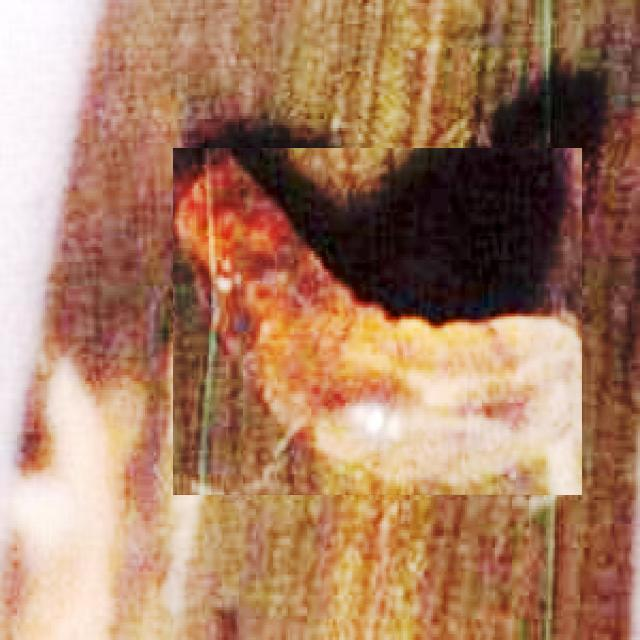whorl-maggot: (173, 149, 582, 494)
